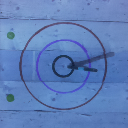Axe Tip: (71, 64, 82, 67)
